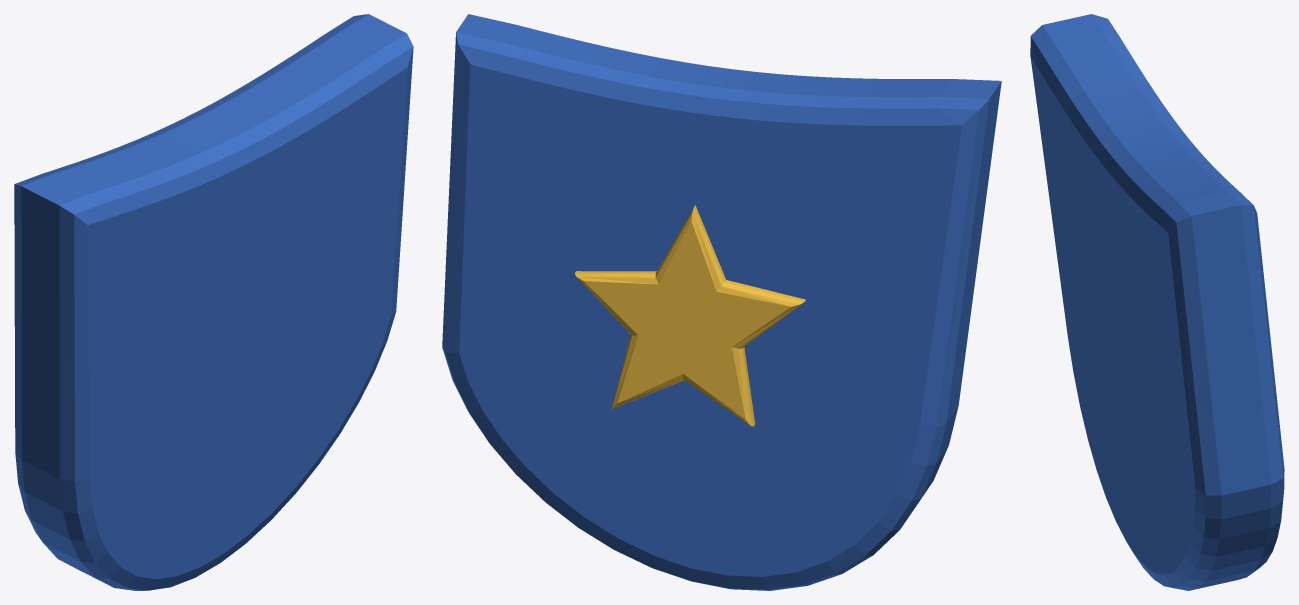
File: Shield3D.glb
The picture shows the model from 3 angles, left to right: view 1: azimuth 30°, elevation 25°; view 2: azimuth 150°, elevation 25°; view 3: azimuth 270°, elevation 25°; orthographic projection. The views are drawn at different scales.
Visible parts, largest first — view 1: Body; view 2: Body; view 3: Body.
Part boxes in pixels (<box>): Body: <box>14,14,413,590</box>; Body: <box>442,14,1001,590</box>; Body: <box>1030,14,1284,590</box>.
Size of the model in its own units: 1.92 by 2.02 by 0.9764.
Materials: 1 (1 with a texture image).
